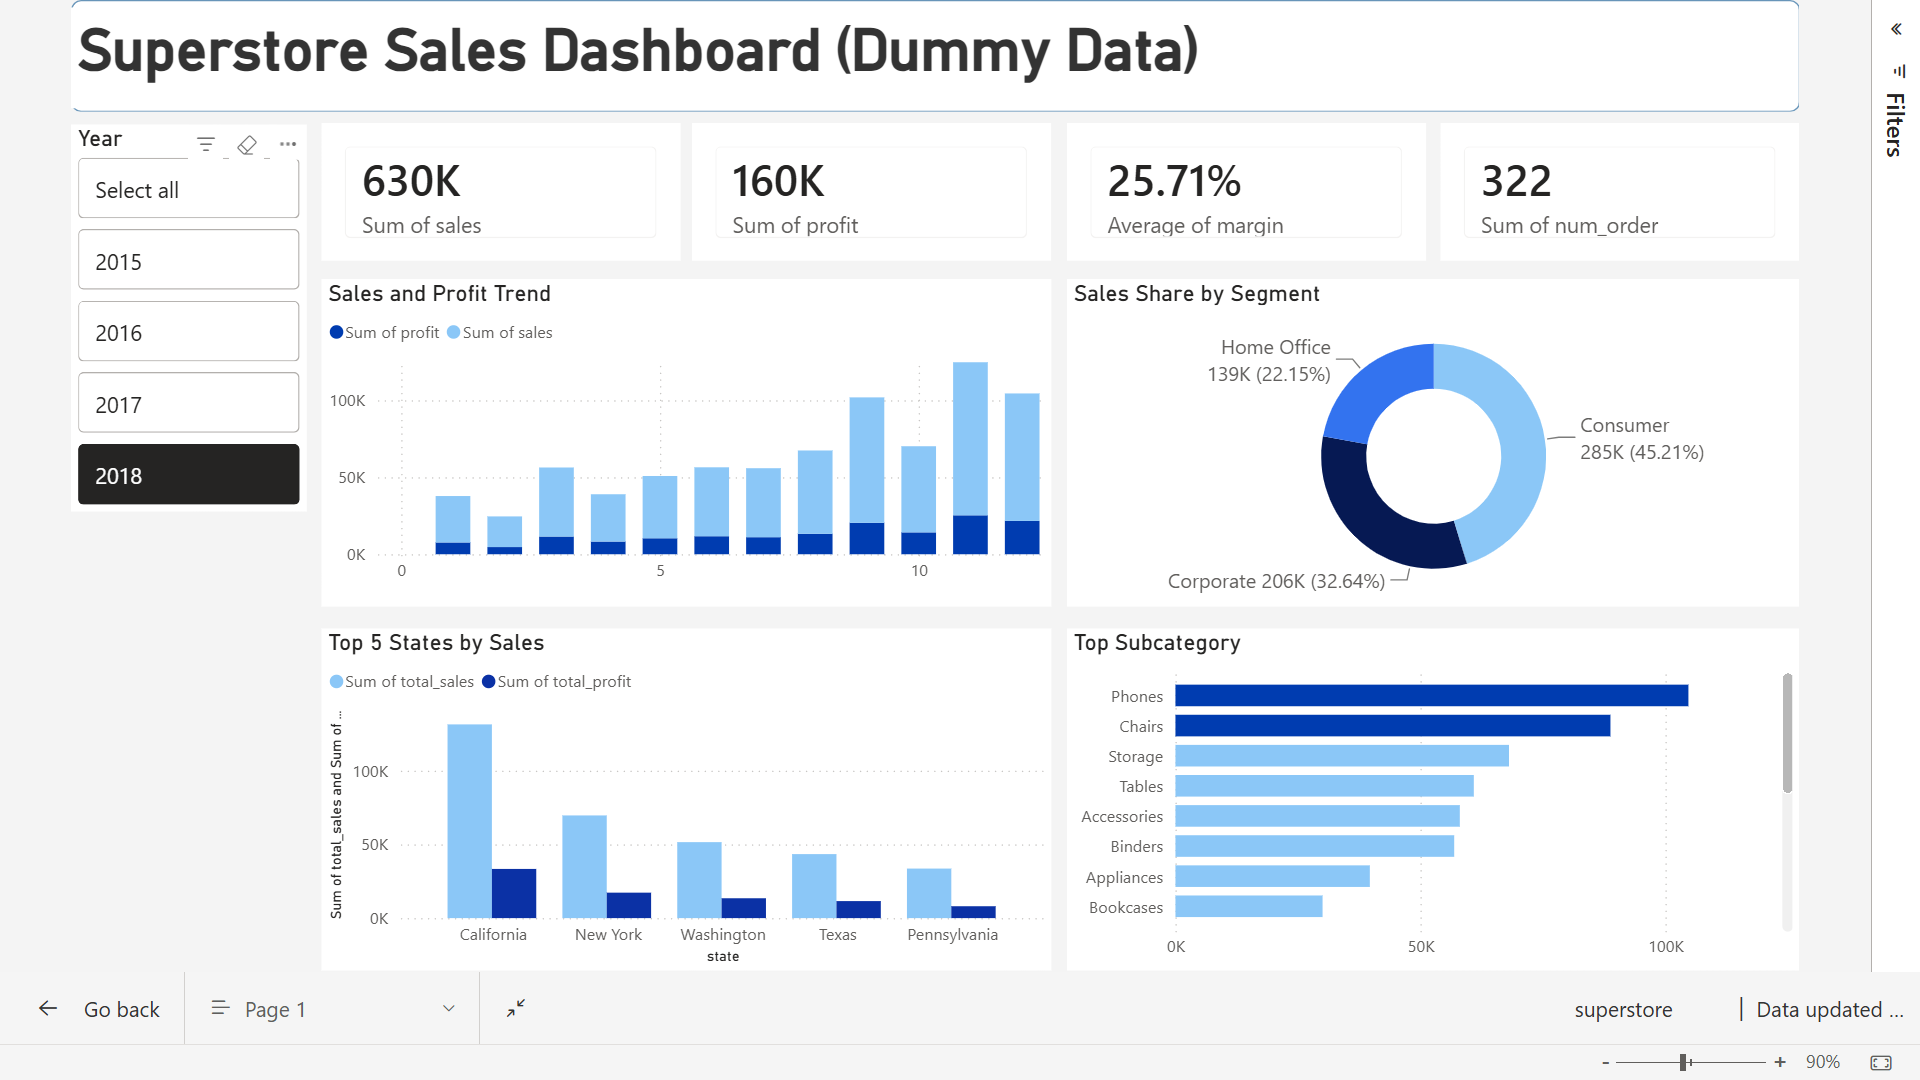

The dashboard page shown, as its layout file describes it:
{"tool":"powerbi","page":{"name":"Page 1","canvas":[1280,720],"ordinal":0},"visuals":[{"type":"advancedSlicerVisual","title":"Year","fields":{"Values":["superstore_year_month_sales_profit_margin.year"]},"box":[0,92.3,174.9,286.6],"z":0},{"type":"cardVisual","fields":{"Data":["Sum(superstore_year_month_sales_profit_margin.sales)"]},"box":[185.1,91.5,266,102.1],"z":1000},{"type":"cardVisual","fields":{"Data":["Sum(superstore_year_month_sales_profit_margin.profit)"]},"box":[459.6,91.5,266,102.1],"z":2000},{"type":"columnChart","title":"Sales and Profit Trend ","fields":{"Category":["superstore_year_month_sales_profit_margin.month"],"Y":["Sum(superstore_year_month_sales_profit_margin.profit)","Sum(superstore_year_month_sales_profit_margin.sales)"]},"box":[185.1,206.4,540.4,242.6],"z":3000},{"type":"donutChart","title":"Sales Share by Segment","fields":{"Category":["superstore_year_segment.segment"],"Y":["Sum(superstore_year_segment.total_sales)"]},"box":[738.3,206.4,542.6,242.6],"z":4000},{"type":"cardVisual","fields":{"Data":["Avg(superstore_year_margin.margin)"]},"box":[738.3,91.5,266,102.1],"z":5000},{"type":"cardVisual","fields":{"Data":["Sum(superstore_year_numorder.num_order)"]},"box":[1014.9,91.5,266,102.1],"z":6000},{"type":"barChart","title":"Top Subcategory","fields":{"Y":["Sum(superstore_year_month_subcat.total_sales)"],"Category":["superstore_year_month_subcat.sub_category"]},"box":[738.3,466,542.6,253.2],"z":7000},{"type":"clusteredColumnChart","title":"Top 5 States by Sales","fields":{"Y":["Sum(superstore_state_sales_top5.total_sales)","Sum(superstore_state_sales_top5.total_profit)"],"Category":["superstore_state_sales_top5.state"]},"box":[185.1,466,540.4,253.2],"z":8000},{"type":"shape","box":[0,0,1280.9,83],"z":8001},{"type":"textbox","box":[0,6,1014.9,74.5],"z":8002}]}

Visuals, with their boxes on the page's 1280x720 design canvas (x1, y1, x2, y2). These are canvas units, not pixel positions in the 1920x1080 screenshot, which may show the page scaled, cropped or inside an application window:
"Year" advancedSlicerVisual: select_region(0, 92, 175, 379)
cardVisual - Sum(superstore_year_month_sales_profit_margin.sales): select_region(185, 92, 451, 194)
cardVisual - Sum(superstore_year_month_sales_profit_margin.profit): select_region(460, 92, 726, 194)
"Sales and Profit Trend " columnChart: select_region(185, 206, 726, 449)
"Sales Share by Segment" donutChart: select_region(738, 206, 1281, 449)
cardVisual - Avg(superstore_year_margin.margin): select_region(738, 92, 1004, 194)
cardVisual - Sum(superstore_year_numorder.num_order): select_region(1015, 92, 1281, 194)
"Top Subcategory" barChart: select_region(738, 466, 1281, 719)
"Top 5 States by Sales" clusteredColumnChart: select_region(185, 466, 726, 719)
shape: select_region(0, 0, 1281, 83)
textbox: select_region(0, 6, 1015, 80)
